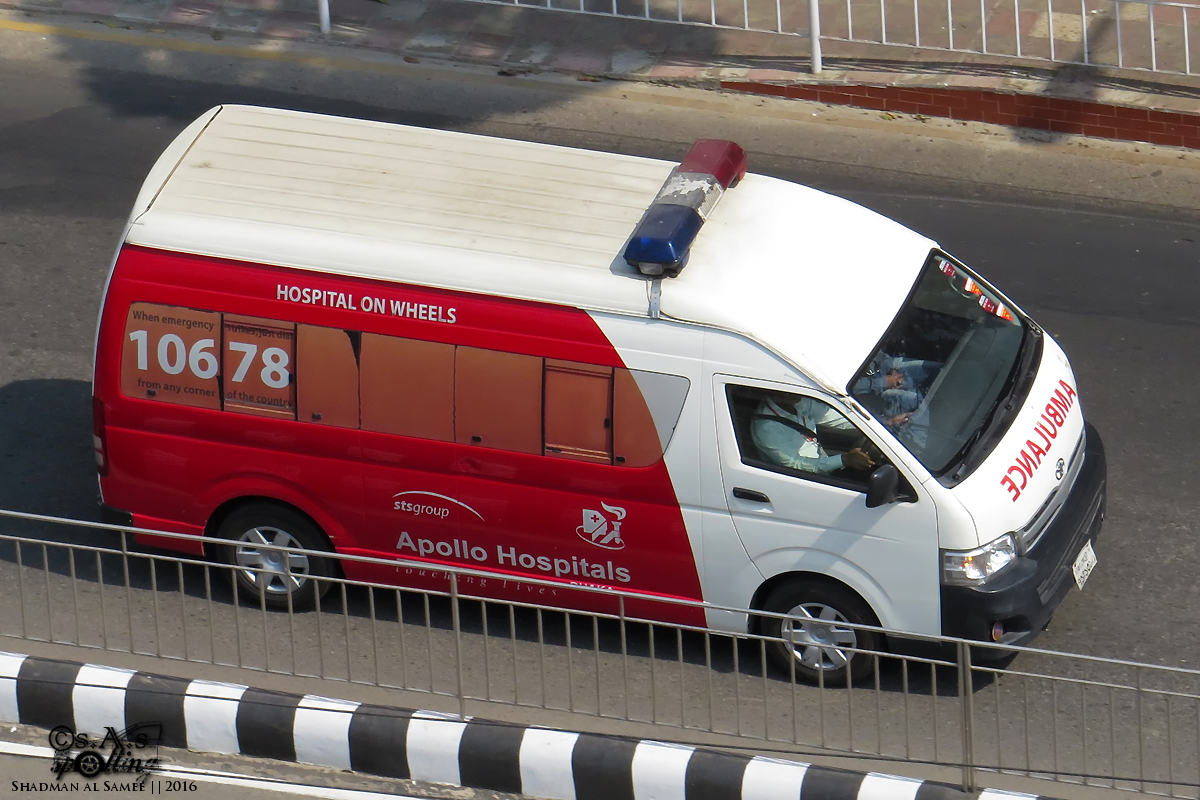Ambulance: (70, 82, 1125, 695)
